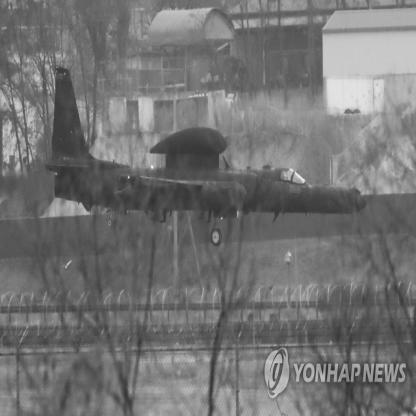U2: (46, 65, 368, 248)
